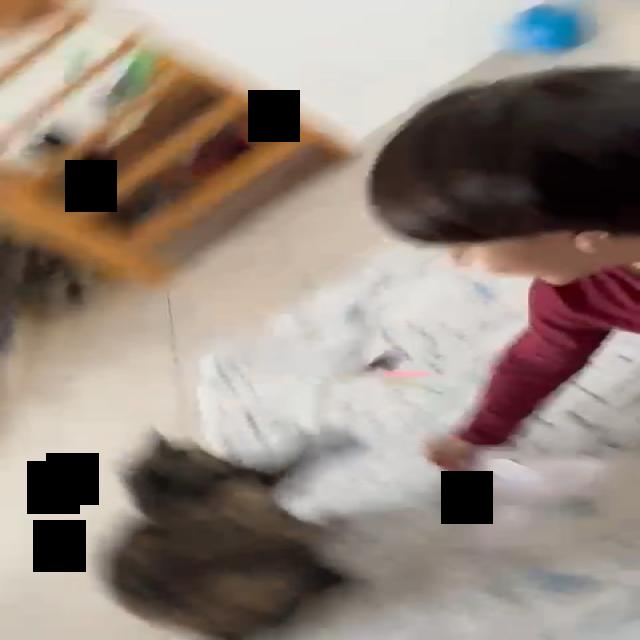authorized: (94, 425, 354, 638)
